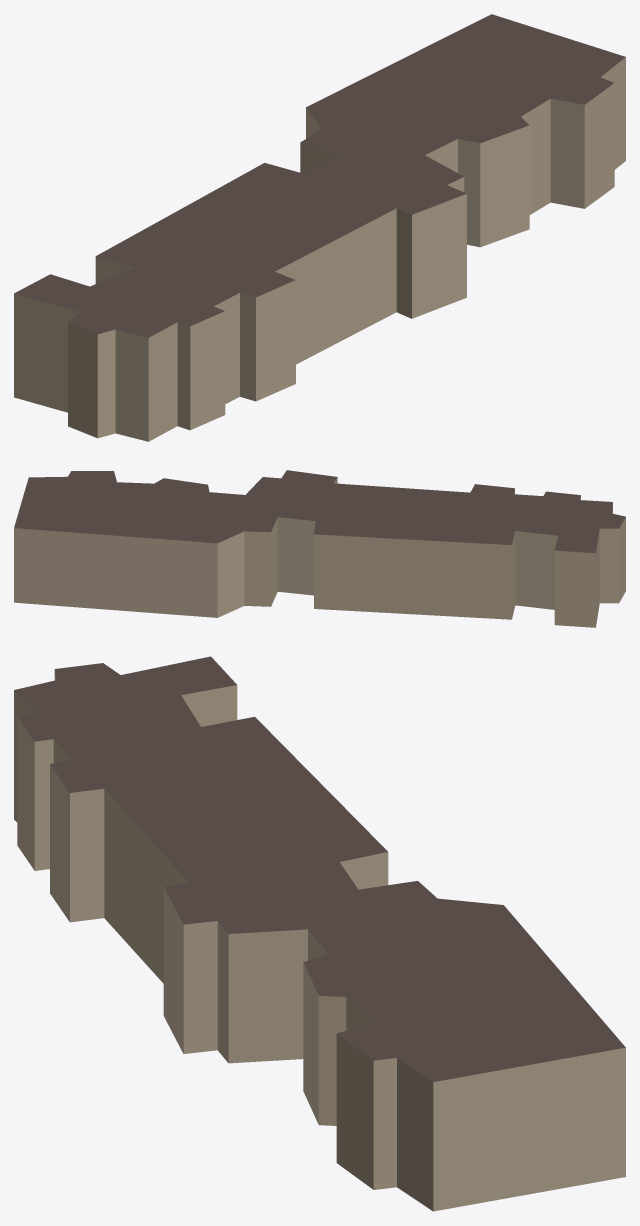
3 renders of one model, top to bottom at view 1: azimuth 30°, elevation 25°; view 2: azimuth 150°, elevation 25°; view 3: azimuth 270°, elevation 25°, orthographic. The views are drawn at different scales.
Visible parts, largest first — view 1: HP-w1512359802; view 2: HP-w1512359802; view 3: HP-w1512359802.
Boxes of the visible parts, x1=… form: HP-w1512359802: x1=14, y1=14, x2=625, y2=441; HP-w1512359802: x1=14, y1=470, x2=625, y2=627; HP-w1512359802: x1=14, y1=656, x2=625, y2=1211.
Bounding box in the file's own units: 63.52 × 9 × 38.58.
